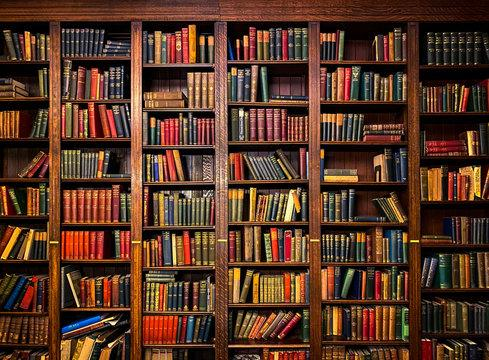book: (61, 314, 105, 337), (3, 275, 28, 311), (1, 226, 24, 259), (459, 165, 480, 200), (277, 312, 302, 341), (27, 151, 48, 178), (229, 188, 245, 221), (283, 189, 299, 221), (239, 269, 254, 303), (341, 268, 356, 300), (97, 104, 111, 138), (439, 254, 452, 288), (425, 257, 439, 288), (7, 188, 23, 215), (476, 78, 489, 110), (349, 66, 361, 100), (119, 104, 131, 138), (87, 102, 98, 139), (105, 107, 118, 138), (476, 252, 487, 288), (3, 31, 17, 59), (18, 110, 32, 138), (165, 151, 178, 181), (61, 61, 71, 99), (29, 108, 42, 137), (384, 148, 395, 182), (100, 149, 112, 179), (144, 91, 184, 100), (474, 32, 485, 64), (424, 139, 467, 147), (478, 123, 489, 154), (162, 231, 172, 265), (144, 100, 186, 108), (364, 123, 406, 131), (188, 26, 197, 63), (365, 267, 375, 300), (375, 227, 384, 263), (111, 186, 120, 222), (245, 226, 254, 262), (0, 78, 27, 90), (250, 67, 259, 102), (270, 227, 279, 261), (336, 67, 345, 101), (260, 67, 269, 101), (263, 232, 273, 262), (343, 67, 352, 100), (77, 67, 86, 100), (38, 183, 47, 216), (39, 108, 49, 137), (442, 33, 451, 65), (69, 68, 78, 100), (420, 167, 429, 199), (233, 268, 241, 303), (254, 226, 262, 261), (194, 72, 202, 107), (90, 68, 99, 99), (181, 29, 189, 63), (400, 148, 408, 182), (183, 231, 191, 264), (394, 28, 402, 61), (257, 108, 265, 141), (249, 108, 257, 141), (324, 168, 357, 176), (95, 231, 104, 260), (284, 230, 292, 262), (266, 109, 274, 141), (273, 109, 281, 141), (63, 190, 71, 222), (427, 33, 435, 65), (231, 108, 239, 140), (458, 33, 466, 65), (435, 33, 443, 65), (294, 28, 302, 59), (84, 69, 92, 100), (201, 72, 208, 107), (72, 104, 79, 139), (401, 307, 408, 342), (187, 72, 194, 106), (65, 103, 72, 137), (237, 69, 244, 103), (244, 69, 251, 103), (207, 74, 214, 108), (143, 187, 149, 225), (154, 31, 161, 63), (341, 190, 348, 222), (349, 189, 356, 221), (249, 27, 256, 59), (175, 31, 182, 63), (269, 28, 276, 60), (229, 231, 236, 263), (320, 68, 327, 100), (321, 269, 328, 300), (287, 28, 294, 59), (256, 30, 263, 60), (89, 231, 96, 261), (338, 30, 345, 60), (147, 33, 154, 63), (364, 130, 405, 135), (231, 68, 237, 102), (24, 31, 31, 60), (322, 193, 329, 222), (119, 193, 126, 222), (199, 35, 206, 63), (207, 35, 214, 63), (275, 28, 281, 60), (300, 147, 306, 179), (142, 31, 148, 63), (39, 34, 46, 61), (376, 35, 383, 62), (282, 29, 288, 60), (302, 28, 308, 59), (263, 30, 269, 60), (161, 34, 167, 64), (78, 109, 84, 139), (38, 68, 44, 98), (42, 68, 48, 98), (388, 32, 394, 61), (331, 72, 337, 101), (83, 109, 89, 138), (103, 71, 109, 99), (366, 235, 372, 263), (61, 104, 66, 137), (321, 33, 327, 60), (383, 35, 389, 61), (30, 34, 36, 60), (335, 30, 340, 61), (326, 73, 331, 104), (143, 112, 148, 143), (484, 33, 489, 64), (243, 35, 249, 60), (331, 32, 336, 60), (402, 33, 407, 60), (227, 72, 232, 99), (320, 150, 324, 182), (319, 34, 323, 61), (236, 39, 241, 60)
